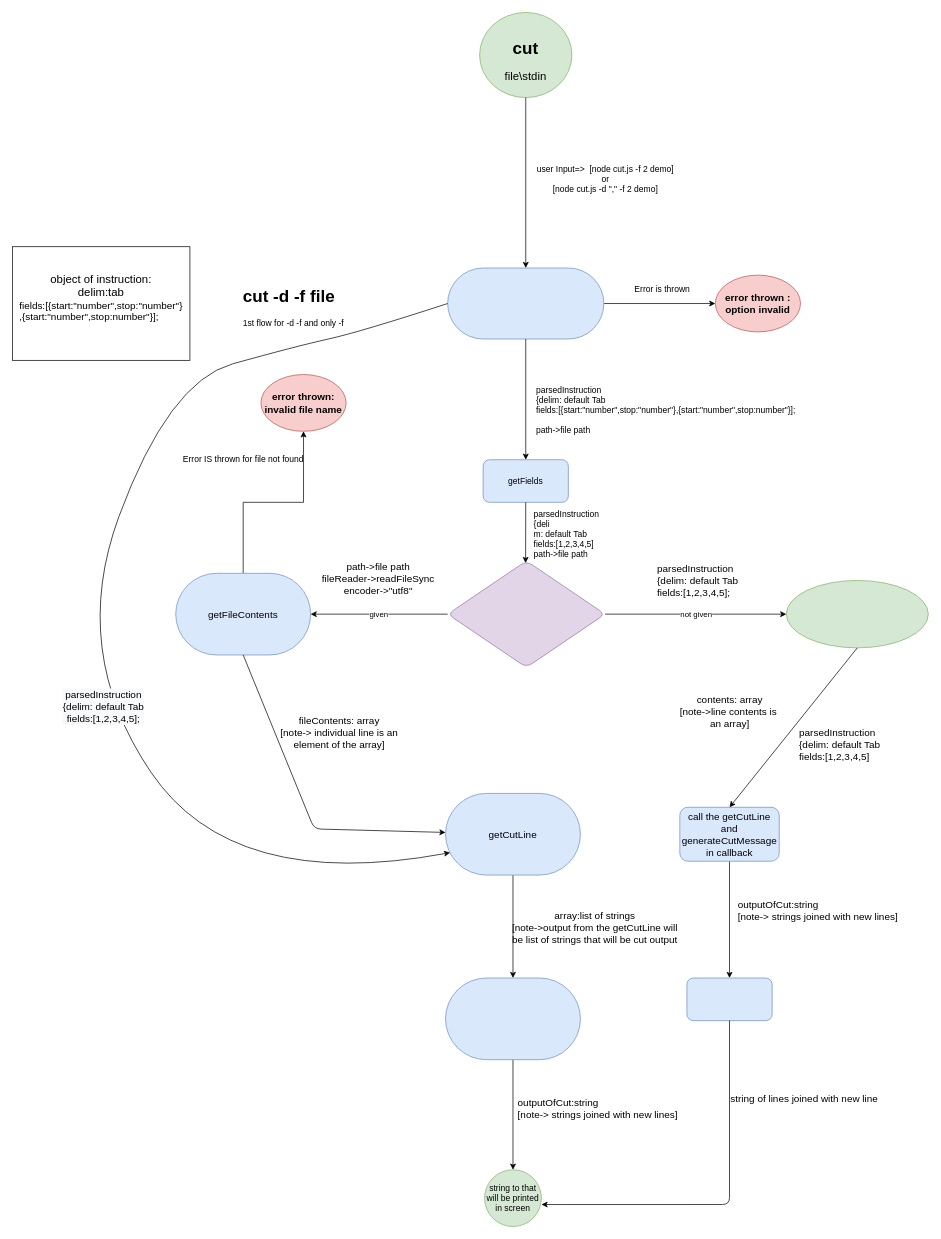
Some shapes in this 941 by 1239 pixel diagram are drawn without their labels. The centre of each missing label's shape, as x and y in pixels:
console.log the output: the point at 729,999
doesFilePathGiven: the point at 526,613
generateCutMessage: the point at 512,1018
parser check correct option or not: the point at 525,303
startCommandLineInput: the point at 857,614
